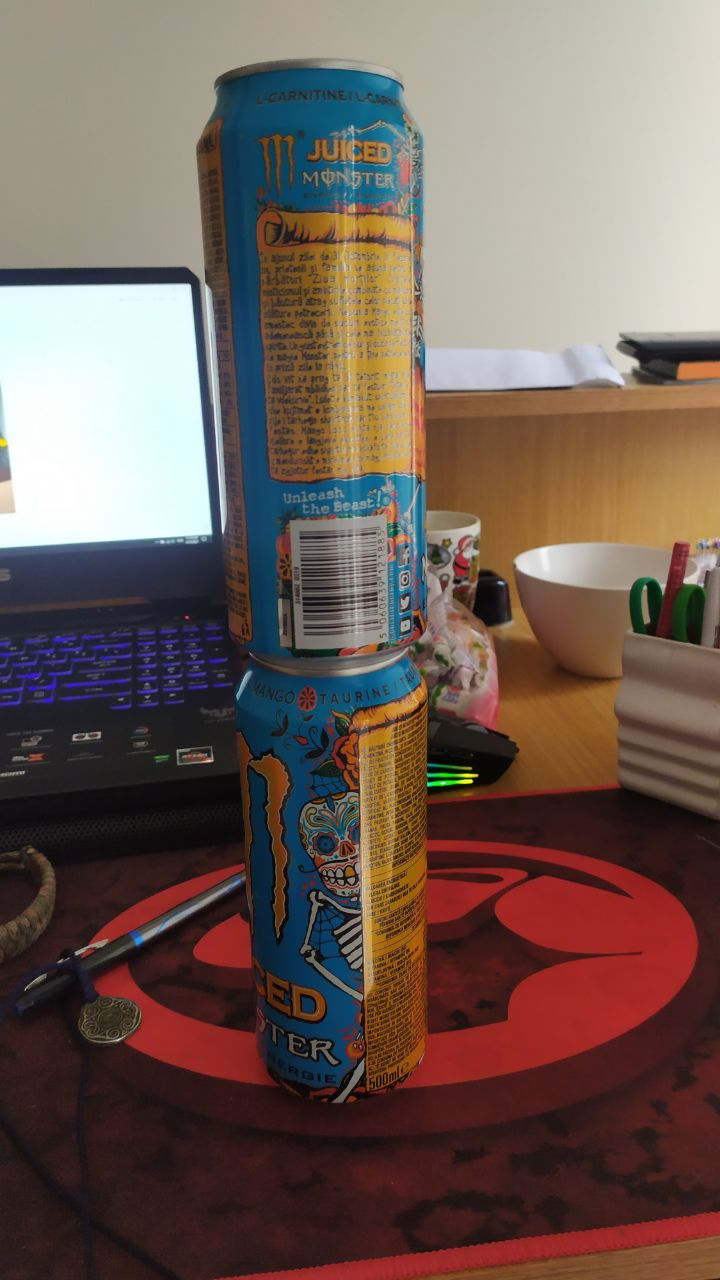Can: (179, 57, 443, 669), (227, 669, 449, 1099)
